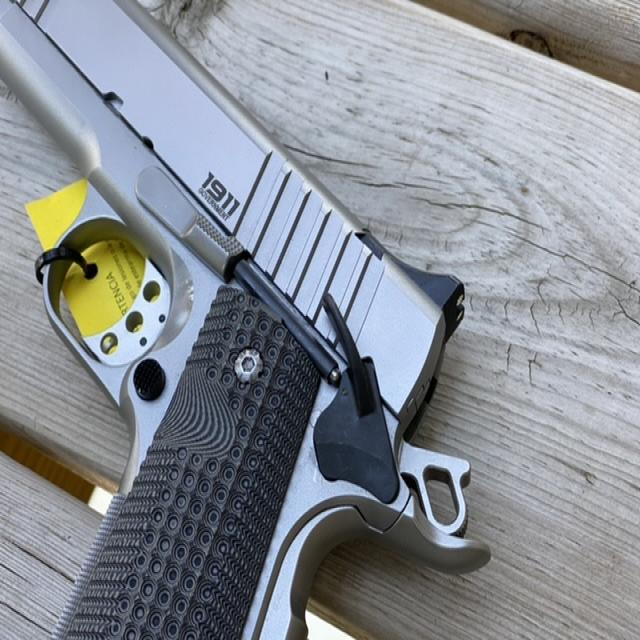HandGun: (0, 0, 491, 640)
